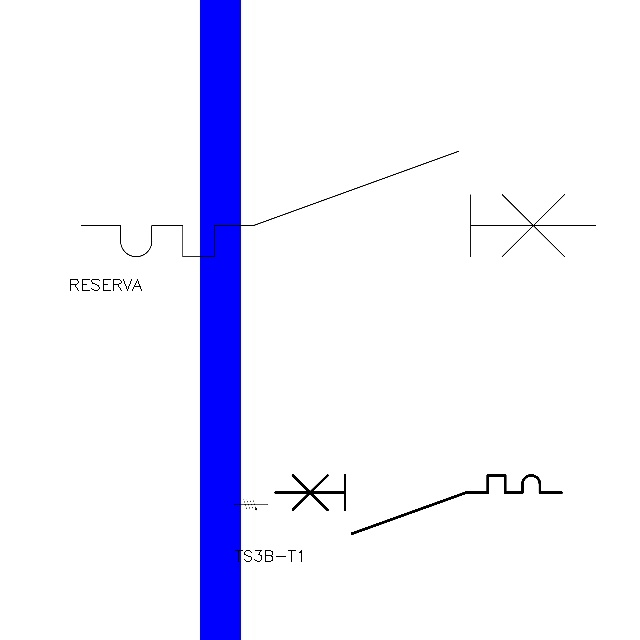interruptor_termomagnetico: (68, 138, 608, 270), (268, 468, 569, 541)
